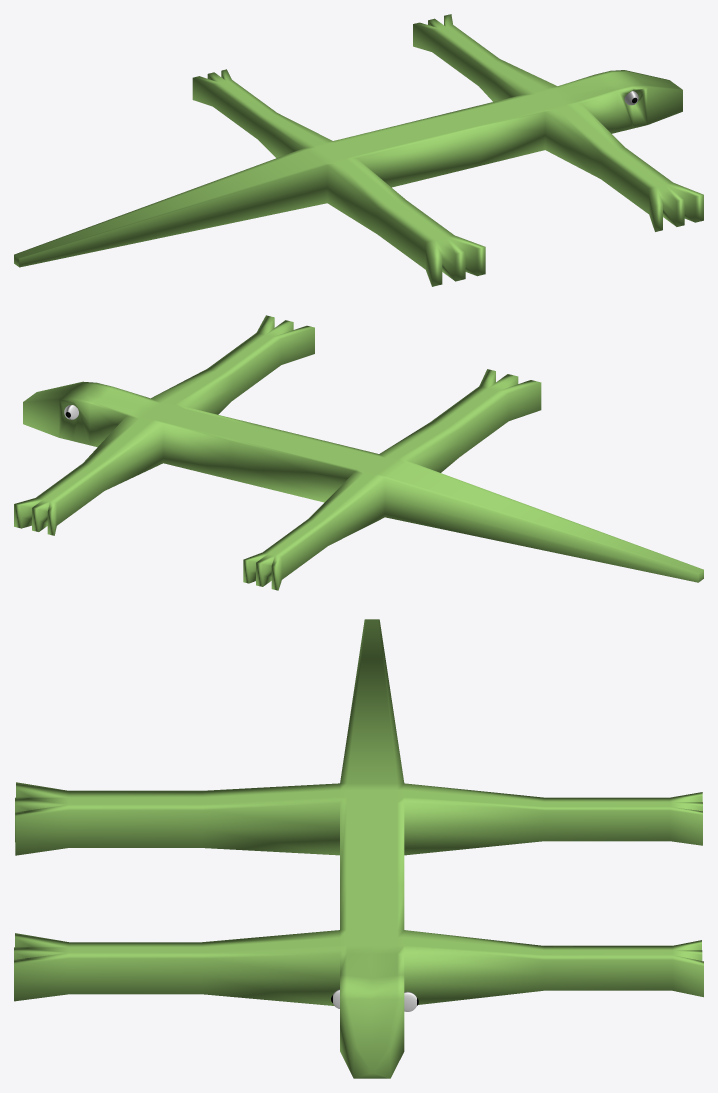
Rendered from pet-lizard.glb.
3 renders of one model, top to bottom at view 1: azimuth 30°, elevation 25°; view 2: azimuth 150°, elevation 25°; view 3: azimuth 270°, elevation 25°, orthographic. The views are drawn at different scales.
Size of the model in its own units: 10.32 by 0.6056 by 6.75.
